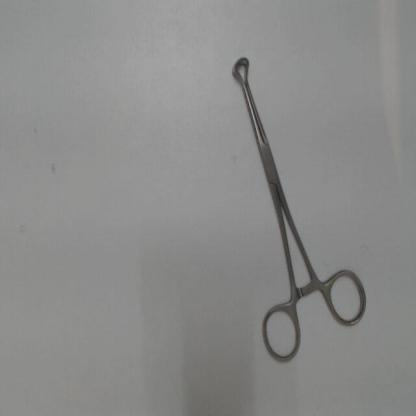Babcock Tissue Forceps: (229, 50, 371, 367)
